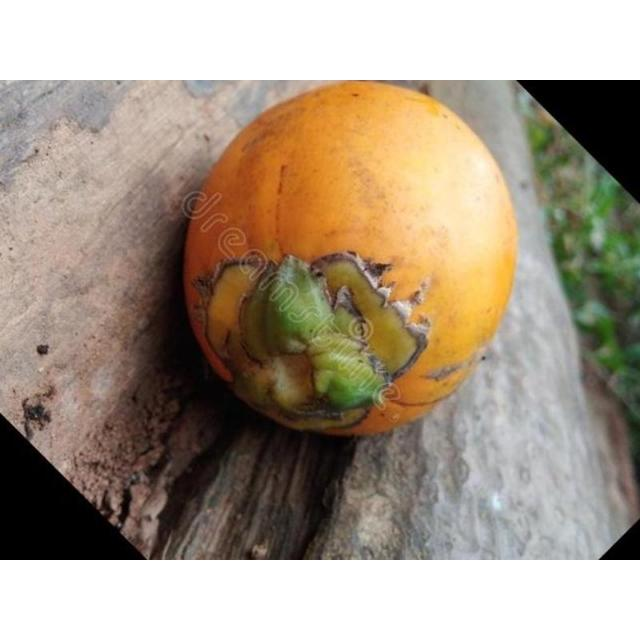good: (184, 82, 517, 435)
